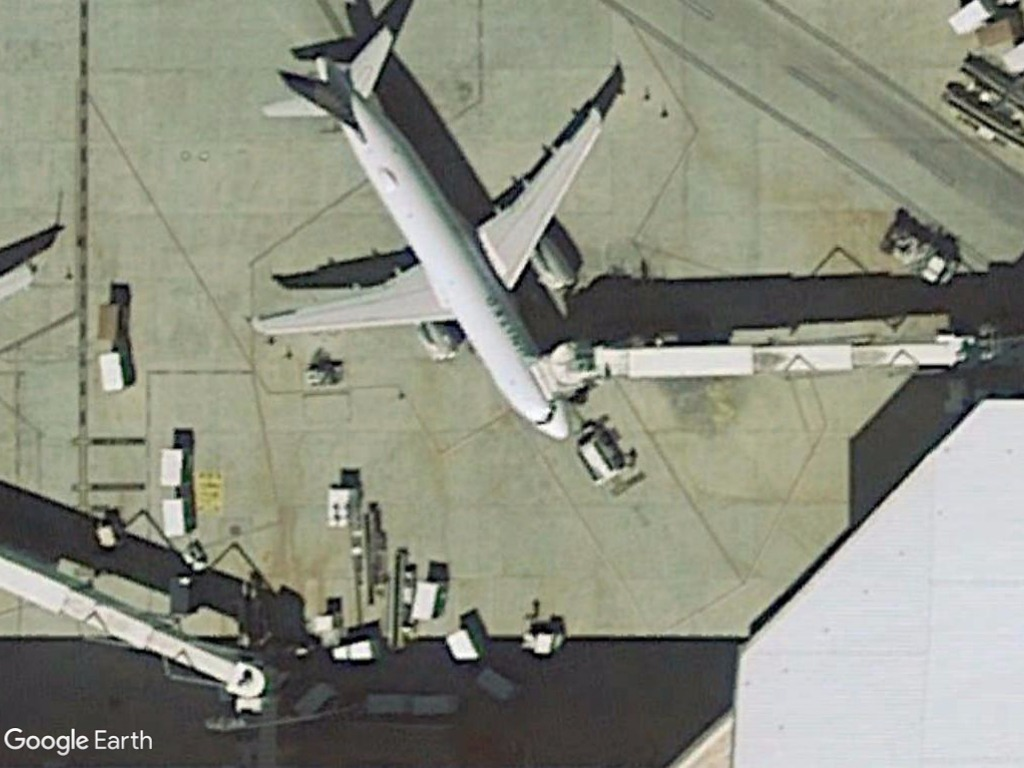airliner: (237, 23, 612, 446)
